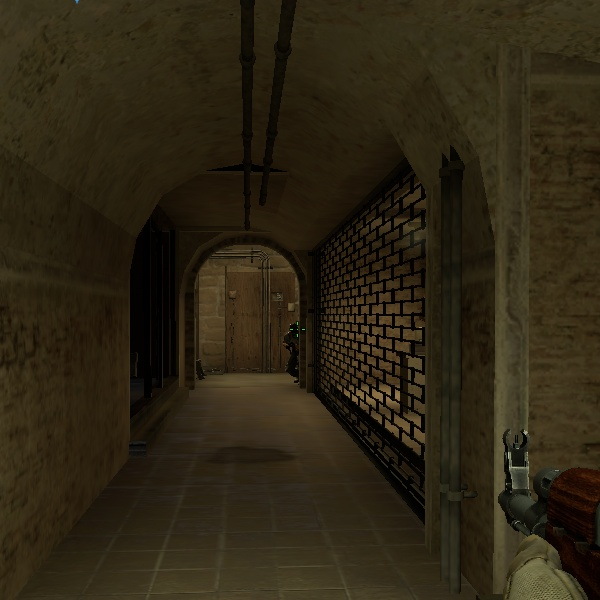t_body: (279, 319, 304, 384)
